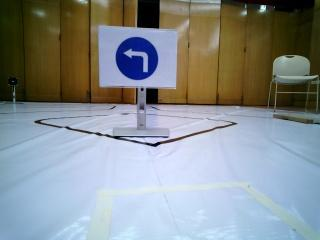left: (102, 28, 166, 85)
